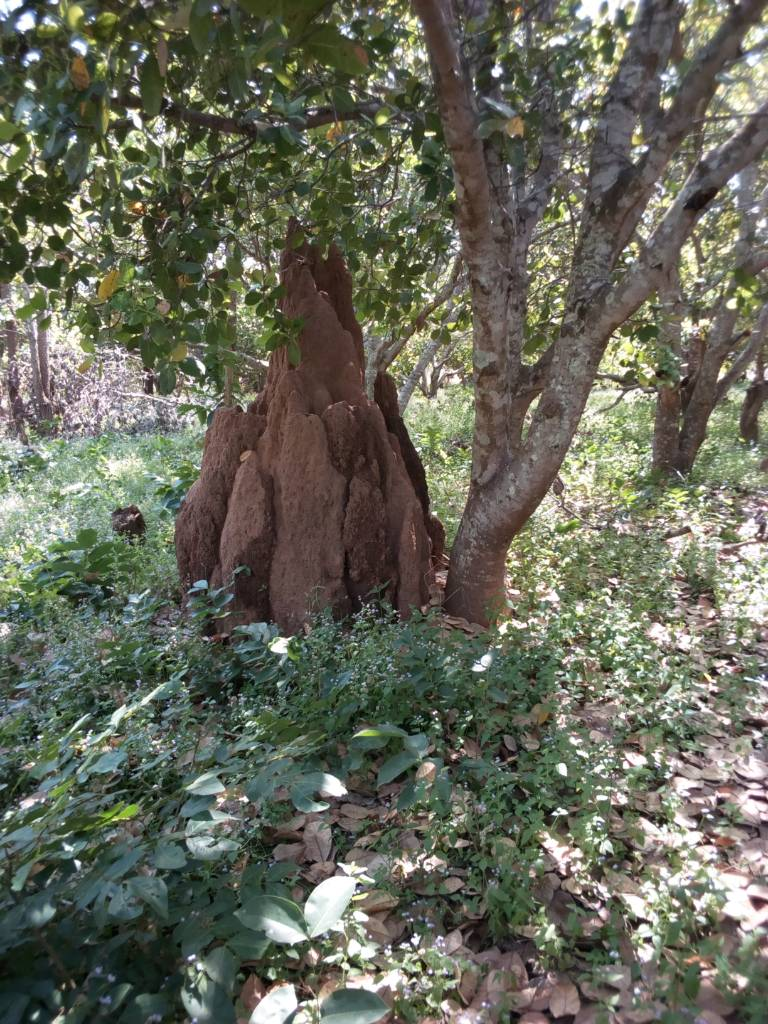Termites: (229, 324, 421, 611)
